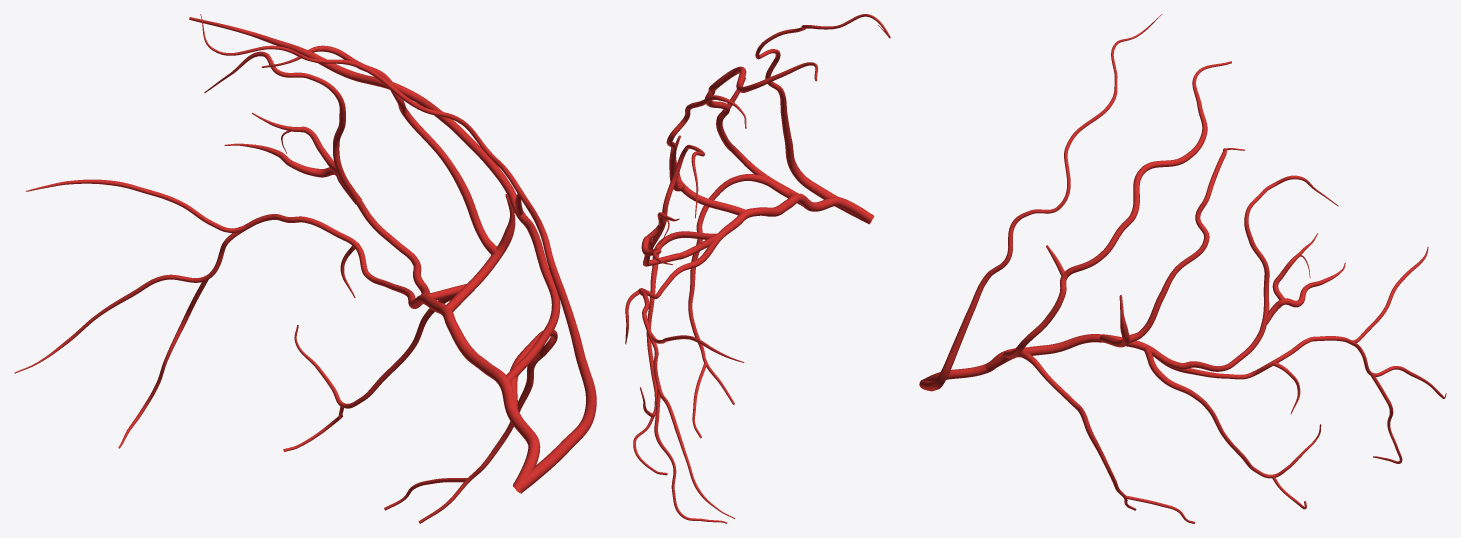
Rendered from circulatorio-middle-cerebral-artery-m3-segment-l.glb.
The picture shows the model from 3 angles, left to right: view 1: azimuth 30°, elevation 25°; view 2: azimuth 150°, elevation 25°; view 3: azimuth 270°, elevation 25°; orthographic projection. The views are drawn at different scales.
Visible parts, largest first — view 1: Artery of central sulcus.l, Postcentral arterial branch.l, Temporo-occipital branch.l, Posterior parietal artery.l, Parietal branches of middle cerebral artery.l, Middle cerebral artery (M3 segment).l, Temporal branches of middle cerebral artery.l, Posterior temporal branch.l; view 2: Middle cerebral artery (M3 segment).l, Artery of central sulcus.l, Temporo-occipital branch.l, Posterior parietal artery.l, Postcentral arterial branch.l, Temporal branches of middle cerebral artery.l, Parietal branches of middle cerebral artery.l, Posterior temporal branch.l; view 3: Posterior parietal artery.l, Postcentral arterial branch.l, Artery of central sulcus.l, Temporo-occipital branch.l, Middle cerebral artery (M3 segment).l, Parietal branches of middle cerebral artery.l, Temporal branches of middle cerebral artery.l, Posterior temporal branch.l.
Part boxes in pixels (x1,y1,x2,y2): Artery of central sulcus.l: (200,14,596,493); Postcentral arterial branch.l: (189,17,560,381); Temporo-occipital branch.l: (14,179,368,448); Posterior parietal artery.l: (204,51,429,294); Parietal branches of middle cerebral artery.l: (261,45,515,311); Middle cerebral artery (M3 segment).l: (365,272,540,491); Temporal branches of middle cerebral artery.l: (384,329,557,523); Posterior temporal branch.l: (283,284,474,451); Middle cerebral artery (M3 segment).l: (656,193,874,298); Artery of central sulcus.l: (755,14,890,224); Temporo-occipital branch.l: (638,288,744,523); Posterior parietal artery.l: (641,145,719,266); Postcentral arterial branch.l: (705,62,818,195); Temporal branches of middle cerebral artery.l: (688,174,802,438); Parietal branches of middle cerebral artery.l: (666,95,746,215); Posterior temporal branch.l: (633,231,716,475); Posterior parietal artery.l: (1146,175,1345,371); Postcentral arterial branch.l: (1002,61,1231,358); Artery of central sulcus.l: (919,14,1161,391); Temporo-occipital branch.l: (1251,247,1446,463); Middle cerebral artery (M3 segment).l: (923,334,1252,381); Parietal branches of middle cerebral artery.l: (1099,148,1244,347); Temporal branches of middle cerebral artery.l: (985,350,1195,523); Posterior temporal branch.l: (1143,346,1321,509).
Bounding box in the file's own units: 0.0562 × 0.1028 × 0.1135.
